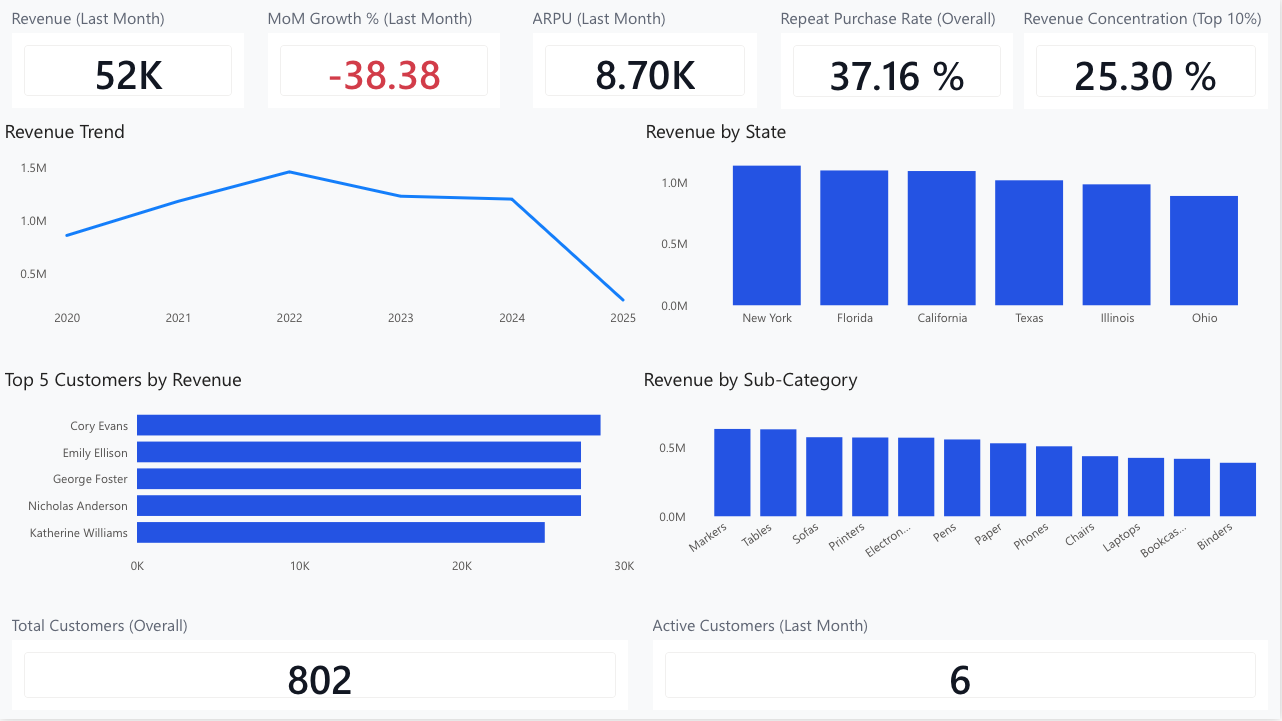

What the dashboard file says about the page in this screenshot:
{"tool":"powerbi","page":{"name":"Page 1","canvas":[1280,720],"ordinal":0},"visuals":[{"type":"cardVisual","title":"Revenue (Last Month)","fields":{"Data":["kpi_monthly.revenue"]},"box":[0,0,256,118.2],"z":0},{"type":"cardVisual","title":"ARPU (Last Month)","fields":{"Data":["kpi_monthly.arpu"]},"box":[512.7,0,256,118.2],"z":1000},{"type":"cardVisual","title":"MoM Growth % (Last Month)","fields":{"Data":["kpi_monthly.mom_growth_pct"]},"box":[256.4,0,256,118.2],"z":2000},{"type":"cardVisual","title":"Revenue Concentration (Top 10%)","fields":{"Data":["kpi_revenue_concentration.top10pct_share"]},"box":[1023.6,0,256.4,119.1],"z":3000},{"type":"cardVisual","title":"Repeat Purchase Rate (Overall)","fields":{"Data":["kpi_repeat_purchase_rate.repeat_purchase_rate"]},"box":[769.1,0,256,119.1],"z":4000},{"type":"lineChart","title":"Revenue Trend","fields":{"Y":["export_sales.amount"],"Category":["export_sales.year"]},"box":[0,119.1,640.9,248],"z":5000},{"type":"columnChart","title":"Revenue by State","fields":{"Category":["export_sales.state"],"Y":["export_sales.amount"]},"box":[640.9,119.1,639.1,248],"z":6000},{"type":"columnChart","title":"Revenue by Sub-Category","fields":{"Y":["export_sales.amount"],"Category":["export_sales.sub_category"]},"box":[639.1,360,640.9,247.3],"z":7000},{"type":"barChart","title":"Top 5 Customers by Revenue","fields":{"Y":["export_sales.amount"],"Category":["export_sales.customer_name"]},"box":[0,367.3,639.1,248.2],"z":8000},{"type":"cardVisual","title":"Total Customers (Overall)","fields":{"Data":["kpi_repeat_purchase_rate.total_customers"]},"box":[0,607.3,640,112.7],"z":9000},{"type":"cardVisual","title":"Active Customers (Last Month)","fields":{"Data":["kpi_monthly.active_customers"]},"box":[640.9,607.3,639.1,112.7],"z":10000}]}

Visuals, with their boxes in screenshot pixels (x1, y1, x2, y2), scaled from the page's 1280x720 canvas onto the 1282x721 screenshot:
"Revenue (Last Month)" cardVisual: 0/0/256/118
"ARPU (Last Month)" cardVisual: 514/0/770/118
"MoM Growth % (Last Month)" cardVisual: 257/0/513/118
"Revenue Concentration (Top 10%)" cardVisual: 1025/0/1281/119
"Repeat Purchase Rate (Overall)" cardVisual: 770/0/1027/119
"Revenue Trend" lineChart: 0/119/642/368
"Revenue by State" columnChart: 642/119/1281/368
"Revenue by Sub-Category" columnChart: 640/360/1281/608
"Top 5 Customers by Revenue" barChart: 0/368/640/616
"Total Customers (Overall)" cardVisual: 0/608/641/720
"Active Customers (Last Month)" cardVisual: 642/608/1281/720
